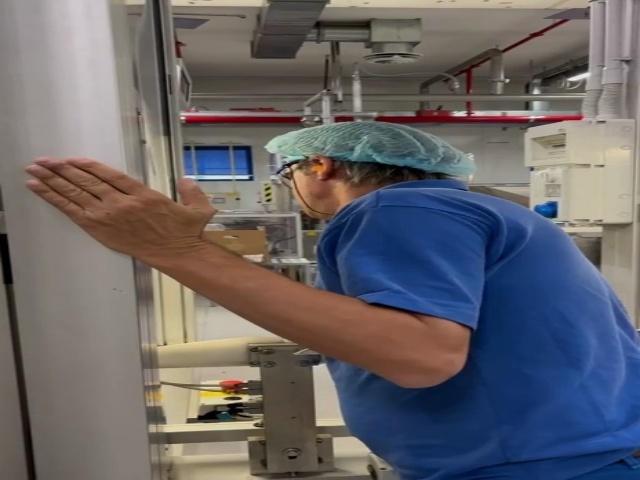Earplug: (309, 157, 331, 183)
Hairnet: (270, 120, 475, 177)
No_Helmet: (272, 123, 472, 173)
No_Vest: (320, 191, 640, 458)
Person: (24, 124, 640, 480)
Safety_Goggles: (275, 157, 315, 183)
